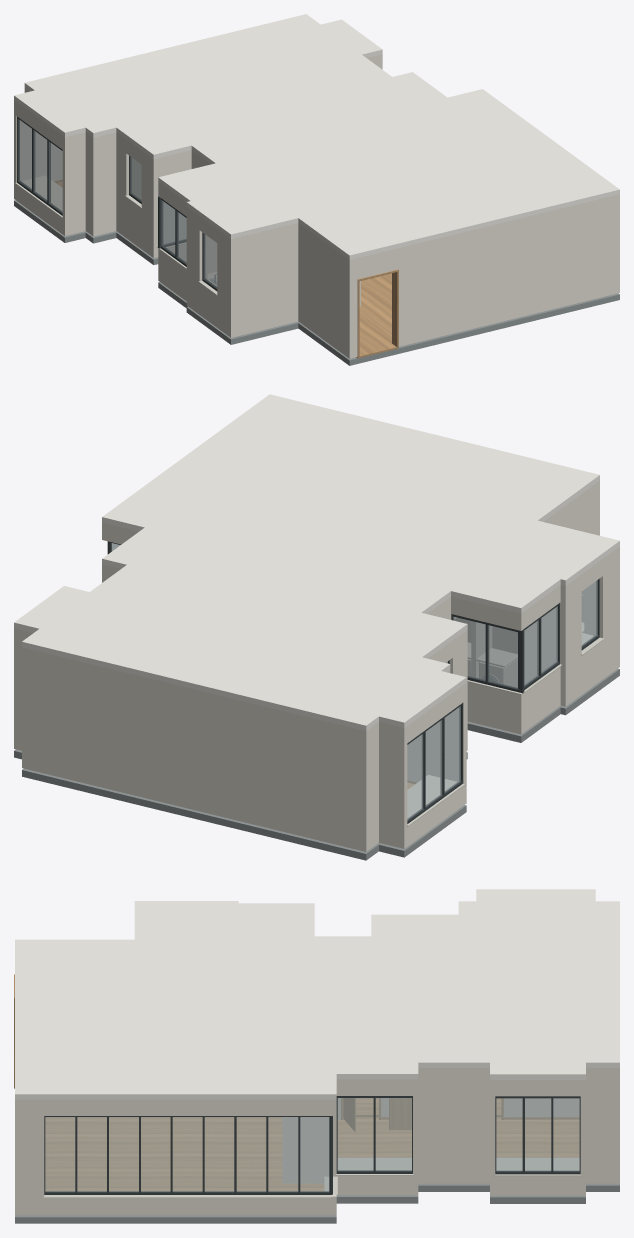
The model's file is architecture-full.glb.
3 renders of one model, top to bottom at view 1: azimuth 30°, elevation 25°; view 2: azimuth 150°, elevation 25°; view 3: azimuth 270°, elevation 25°, orthographic. The views are drawn at different scales.
Parts seen in each view (by area): view 1: 顶板_隐藏后可俯视室内, 墙体_0.00-0.45_00, 墙体_1.20-2.40_02, 墙体_2.40-2.80_00, 墙体_1.20-2.40_08, 墙体_0.50-0.95_04, 住宅楼板, 墙体_0.50-0.95_02, 墙体_1.20-2.40_04, 客餐厅阳台及过道_地面, 墙体_0.95-1.20_02, 墙体_0.95-1.20_06 (+16 smaller); view 2: 顶板_隐藏后可俯视室内, 墙体_1.20-2.40_00, 墙体_2.40-2.80_00, 墙体_0.00-0.45_00, 墙体_0.50-0.95_00, 住宅楼板, 墙体_0.95-1.20_00, 墙体_0.50-0.95_04, 墙体_1.20-2.40_07, 墙体_1.20-2.40_08, 晾晒北窗_玻璃, 墙体_0.45-0.50_00 (+11 smaller); view 3: 顶板_隐藏后可俯视室内, 客餐厅阳台及过道_地面, 墙体_0.00-0.45_00, 墙体_2.40-2.80_00, 住宅楼板, 墙体_1.20-2.40_01, 长辈房_地面, 儿童房东飘窗_玻璃, 儿童房东飘窗_玻璃.001, 儿童房_地面, 客餐厅阳台长窗_玻璃, 客餐厅阳台长窗_玻璃.004 (+25 smaller).
Boxes of the visible parts, x1=… form: 顶板_隐藏后可俯视室内: x1=14, y1=14, x2=619, y2=259; 墙体_0.00-0.45_00: x1=14, y1=166, x2=619, y2=358; 墙体_1.20-2.40_02: x1=398, y1=208, x2=619, y2=304; 墙体_2.40-2.80_00: x1=14, y1=54, x2=619, y2=273; 墙体_1.20-2.40_08: x1=217, y1=237, x2=357, y2=316; 墙体_0.50-0.95_04: x1=62, y1=192, x2=360, y2=341; 住宅楼板: x1=14, y1=200, x2=619, y2=365; 墙体_0.50-0.95_02: x1=399, y1=259, x2=619, y2=328; 墙体_1.20-2.40_04: x1=62, y1=146, x2=140, y2=195; 客餐厅阳台及过道_地面: x1=356, y1=273, x2=398, y2=358; 墙体_0.95-1.20_02: x1=399, y1=250, x2=619, y2=313; 墙体_0.95-1.20_06: x1=217, y1=279, x2=357, y2=325; 顶板_隐藏后可俯视室内: x1=14, y1=394, x2=619, y2=731; 墙体_1.20-2.40_00: x1=14, y1=645, x2=407, y2=800; 墙体_2.40-2.80_00: x1=14, y1=481, x2=619, y2=748; 墙体_0.00-0.45_00: x1=14, y1=648, x2=619, y2=851; 墙体_0.50-0.95_00: x1=14, y1=708, x2=407, y2=830; 住宅楼板: x1=14, y1=668, x2=619, y2=860; 墙体_0.95-1.20_00: x1=14, y1=697, x2=407, y2=810; 墙体_0.50-0.95_04: x1=407, y1=621, x2=619, y2=783; 墙体_1.20-2.40_07: x1=471, y1=592, x2=581, y2=654; 墙体_1.20-2.40_08: x1=561, y1=498, x2=619, y2=627; 晾晒北窗_玻璃: x1=488, y1=625, x2=517, y2=688; 墙体_0.45-0.50_00: x1=14, y1=646, x2=619, y2=832; 顶板_隐藏后可俯视室内: x1=15, y1=889, x2=619, y2=1099; 客餐厅阳台及过道_地面: x1=45, y1=1098, x2=501, y2=1190; 墙体_0.00-0.45_00: x1=15, y1=1101, x2=619, y2=1215; 墙体_2.40-2.80_00: x1=15, y1=1068, x2=619, y2=1115; 住宅楼板: x1=15, y1=1183, x2=619, y2=1223; 墙体_1.20-2.40_01: x1=413, y1=1084, x2=495, y2=1145; 长辈房_地面: x1=496, y1=1117, x2=579, y2=1157; 儿童房东飘窗_玻璃: x1=337, y1=1098, x2=373, y2=1170; 儿童房东飘窗_玻璃.001: x1=375, y1=1098, x2=411, y2=1170; 儿童房_地面: x1=338, y1=1117, x2=411, y2=1157; 客餐厅阳台长窗_玻璃: x1=45, y1=1117, x2=75, y2=1191; 客餐厅阳台长窗_玻璃.004: x1=172, y1=1117, x2=202, y2=1191.
Size of the model in its own units: 10.67 by 3.13 by 13.28.
27 materials, 7 textured.
